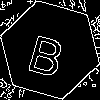B: (25, 25, 70, 79)
